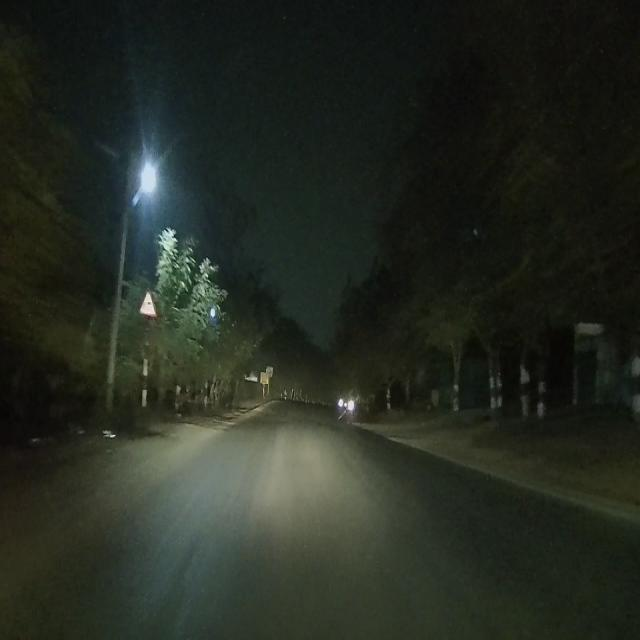right-hand-curve: (142, 285, 155, 314)
